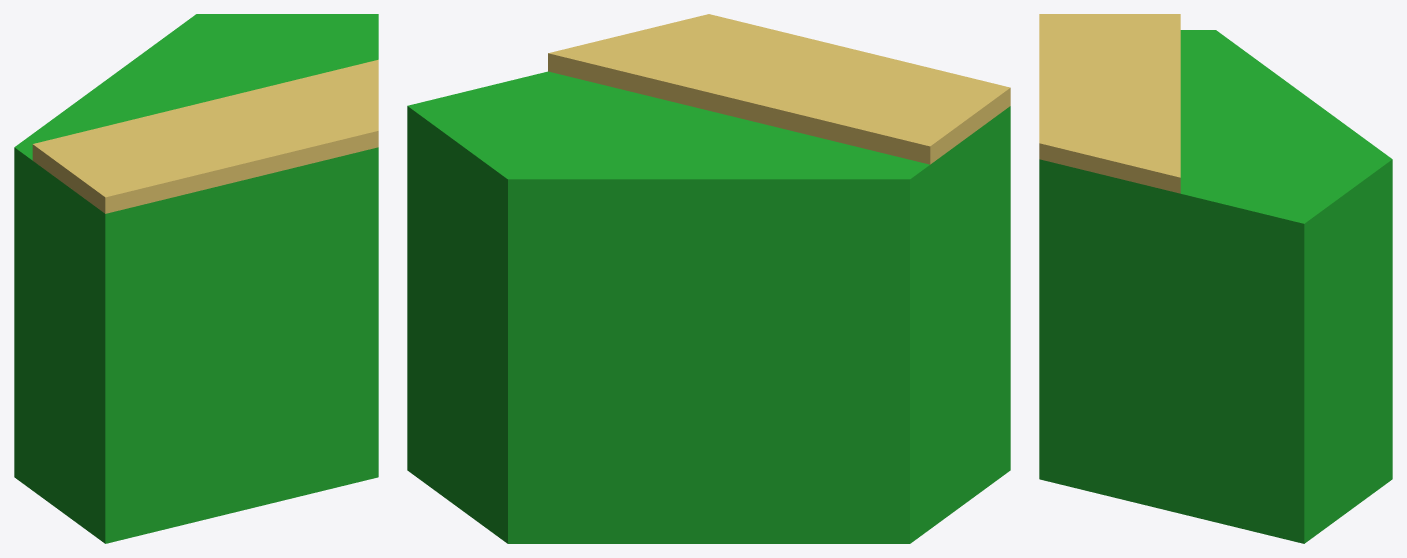
Rendered from module-corner_land_path_left_001.glb.
The picture shows the model from 3 angles, left to right: view 1: azimuth 30°, elevation 25°; view 2: azimuth 150°, elevation 25°; view 3: azimuth 270°, elevation 25°; orthographic projection. The views are drawn at different scales.
Parts seen in each view (by area): view 1: module-corner_land_path_left_001; view 2: module-corner_land_path_left_001; view 3: module-corner_land_path_left_001.
Boxes of the visible parts, x1=… form: module-corner_land_path_left_001: x1=14, y1=14, x2=378, y2=543; module-corner_land_path_left_001: x1=407, y1=14, x2=1010, y2=543; module-corner_land_path_left_001: x1=1039, y1=14, x2=1392, y2=543.
Bounding box in the file's own units: 0.6495 × 0.525 × 0.5.
